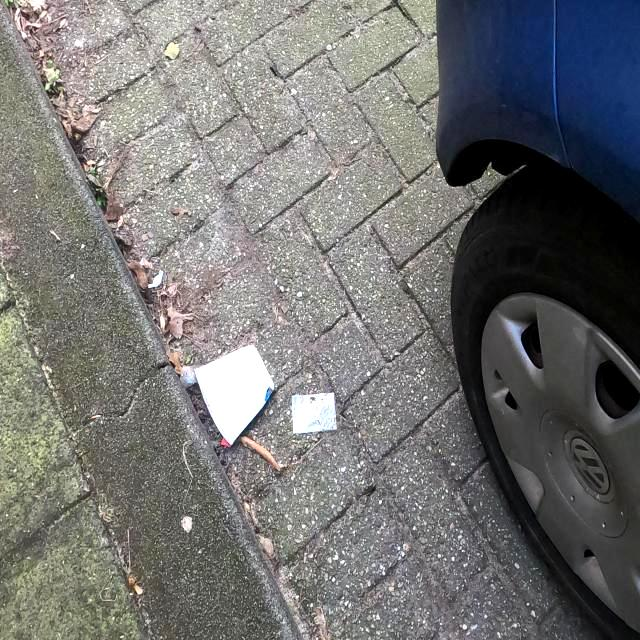Coffee Cup: (194, 342, 276, 448)
